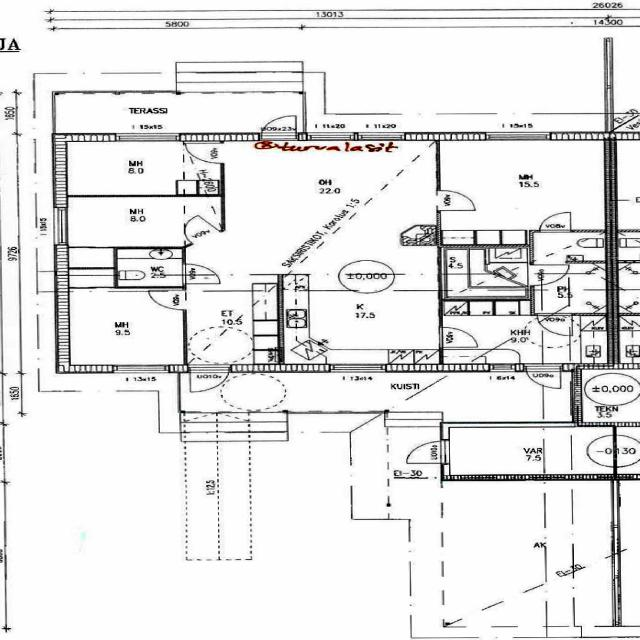door: (169, 215, 220, 245), (189, 364, 228, 394), (261, 113, 297, 142), (402, 441, 449, 463), (527, 364, 560, 391), (527, 265, 569, 286), (437, 327, 477, 347), (186, 143, 225, 163), (537, 313, 572, 335), (148, 290, 186, 310), (183, 264, 221, 284), (436, 192, 473, 210), (540, 212, 570, 233)
